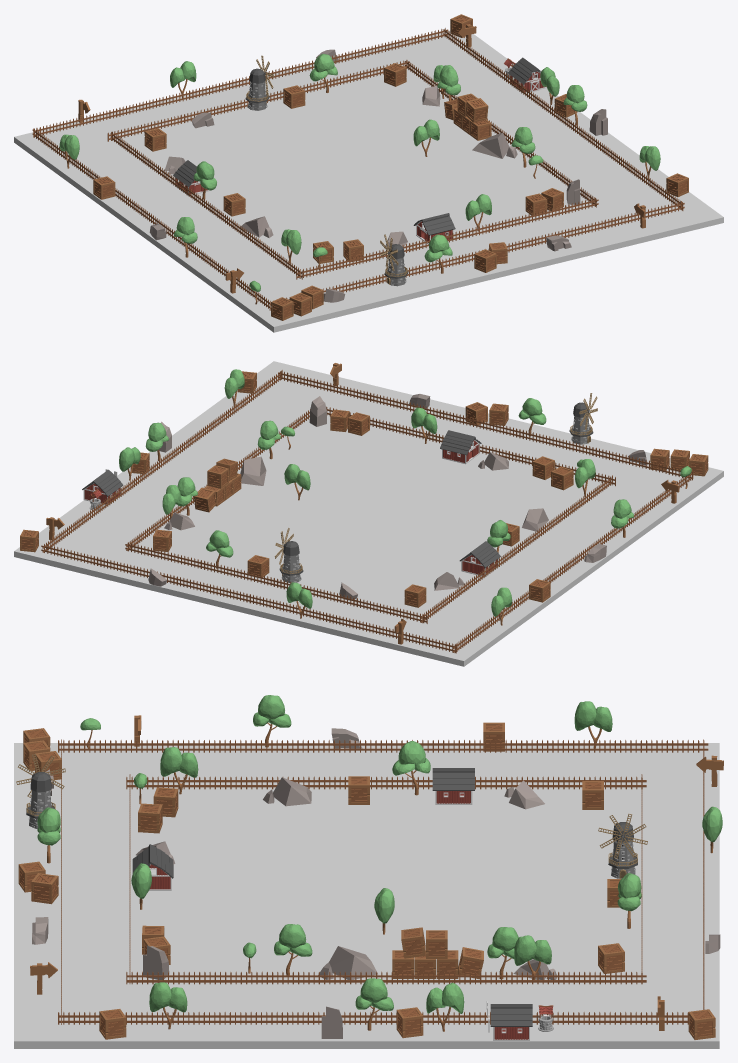
Rendered from World.gltf.
3 views of the same model, one above another, from view 1: azimuth 30°, elevation 25°; view 2: azimuth 150°, elevation 25°; view 3: azimuth 270°, elevation 25° (orthographic). The views are drawn at different scales.
Parts seen in each view (by area): view 1: Cube, Cube.004, Cube.003, Cube.005, Cube.008, Cube.002, Cube.007, Cube.006, Cube.001, Small_Barn.002, TowerWindmill, Small_Barn (+9 smaller); view 2: Cube, Cube.005, Cube.004, Cube.003, Cube.007, Cube.002, Cube.006, Cube.008, Small_Barn.002, Small_Barn.001, Cube.001, Small_Barn (+11 smaller); view 3: Cube, Cube.002, Cube.001, Cube.003, Cube.006, Small_Barn.001, Small_Barn, Rock3.003, TowerWindmill, Small_Barn.002, Tree2.002, Tree2.004 (+32 smaller).
Boxes of the visible parts, x1,y1,x2,y2 form: Cube: (14,30,723,332); Cube.004: (33,29,448,137); Cube.003: (443,28,683,210); Cube.005: (269,201,684,310); Cube.008: (296,197,598,279); Cube.002: (32,128,270,308); Cube.007: (107,60,409,141); Cube.006: (110,131,302,279); Cube.001: (405,60,596,207); Small_Barn.002: (413,213,455,244); TowerWindmill: (245,68,269,110); Small_Barn: (508,57,546,92); Cube: (14,361,723,666); Cube.005: (278,371,692,480); Cube.004: (41,544,456,653); Cube.003: (42,370,282,552); Cube.007: (125,542,427,623); Cube.002: (453,470,693,652); Cube.006: (421,475,612,623); Cube.008: (326,406,615,486); Small_Barn.002: (440,430,481,464); Small_Barn.001: (459,541,500,576); Cube.001: (126,409,310,550); Small_Barn: (82,469,123,504); Cube: (14,743,719,1048); Cube.002: (58,740,708,752); Cube.001: (126,971,646,984); Cube.003: (58,1012,688,1024); Cube.006: (126,776,646,789); Small_Barn.001: (432,768,474,804); Small_Barn: (490,1004,532,1040); Rock3.003: (318,946,377,979); TowerWindmill: (608,822,637,878); Small_Barn.002: (132,844,173,890); Tree2.002: (355,978,393,1030); Tree2.004: (392,741,430,795).
Size of the model in its own units: 113 by 14.03 by 114.
